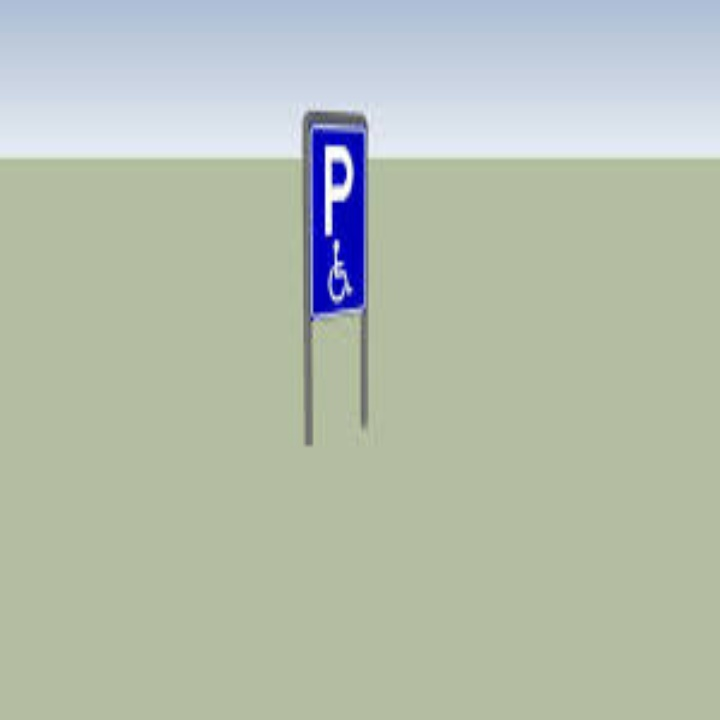parking: (319, 139, 360, 241)
